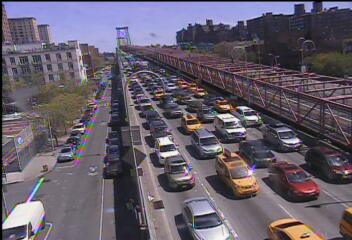neg: (239, 78, 270, 119), (74, 87, 104, 127), (44, 176, 71, 212), (214, 159, 237, 189), (28, 66, 50, 95), (224, 190, 244, 217), (104, 149, 124, 176), (108, 44, 128, 69), (147, 97, 166, 122), (162, 34, 180, 58), (117, 188, 133, 210), (202, 86, 217, 105), (38, 146, 51, 164)
